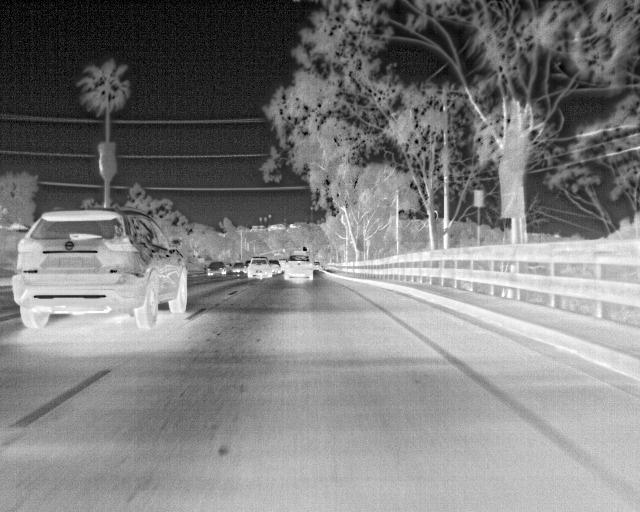car: (11, 190, 210, 359), (276, 242, 317, 296), (248, 251, 279, 291), (204, 249, 230, 279), (221, 253, 248, 280)
